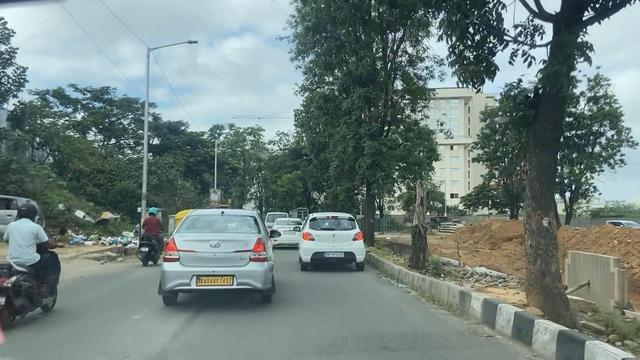LMV: (171, 222, 264, 295), (4, 218, 52, 312), (307, 217, 363, 264), (142, 206, 156, 264)
